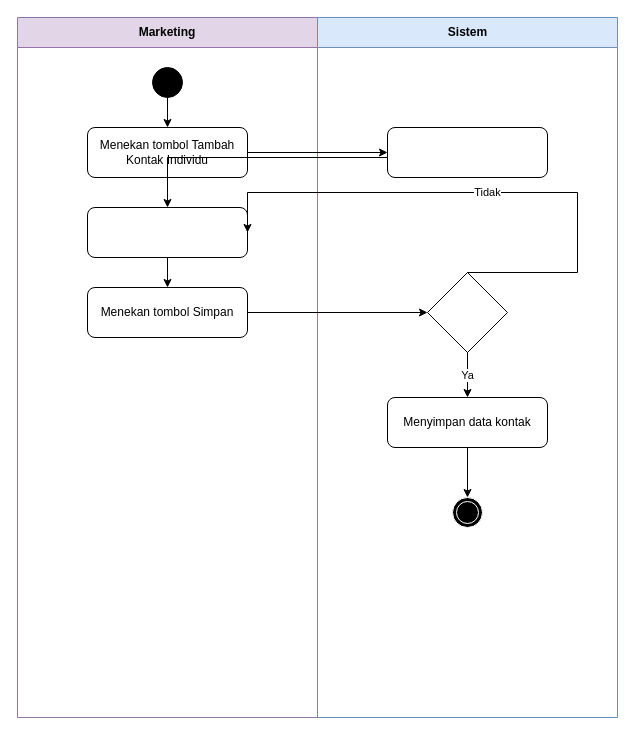
Some shapes in this 635 by 735 pixel diagram are drawn without their labels. Each missing label, with the centre of its shape:
Data Valid?: (467,312)
Menampilkan formulir kontak: (467,152)
Mengisi nama, email, dan organisasi: (167,232)
